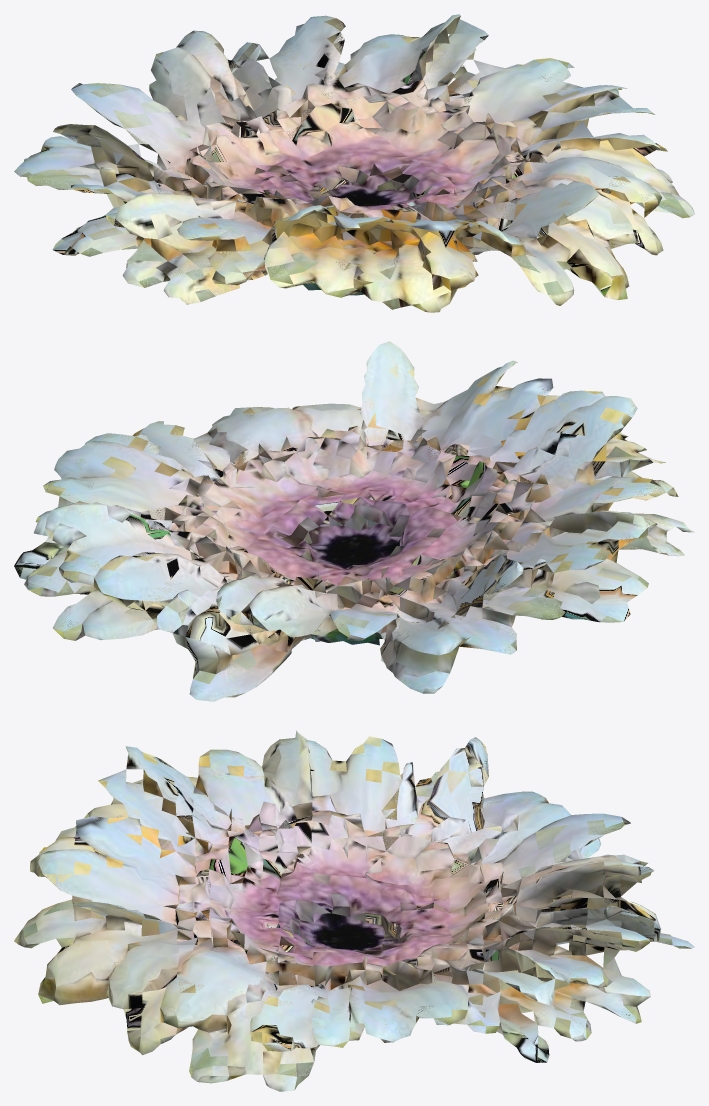
The picture shows the model from 3 angles, top to bottom: view 1: azimuth 30°, elevation 25°; view 2: azimuth 150°, elevation 25°; view 3: azimuth 270°, elevation 25°; orthographic projection.
Parts seen in each view (by area): view 1: 67292c27; view 2: 67292c27; view 3: 67292c27.
Part boxes in pixels (x1,y1,x2,y2): 67292c27: (14, 14, 694, 312); 67292c27: (14, 341, 694, 701); 67292c27: (14, 730, 694, 1091).
Bounding box in the file's own units: 0.0972 × 0.0282 × 0.1012.
Materials: 1 (1 with a texture image).
